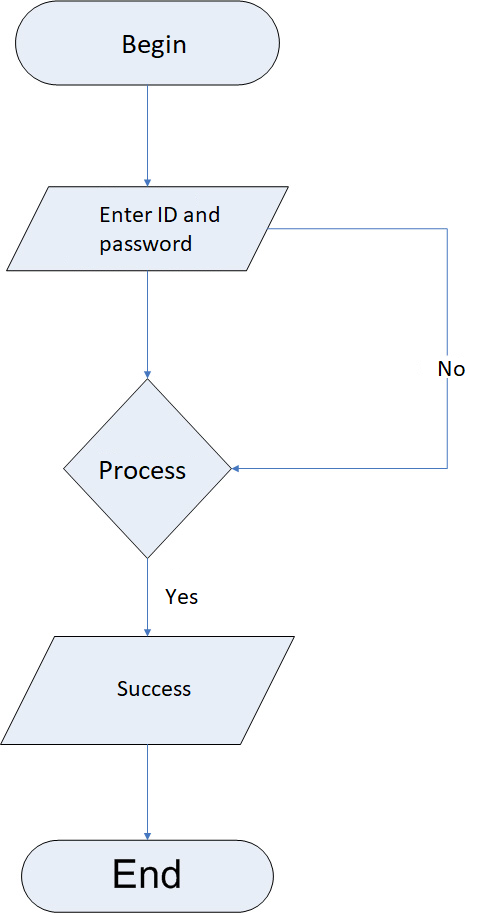arrow: (233, 224, 453, 474), (140, 270, 155, 379), (140, 86, 155, 186), (141, 747, 154, 840), (141, 556, 155, 636)
data: (1, 634, 296, 749), (4, 184, 294, 277)
decision: (61, 379, 233, 559)
terminator: (15, 1, 283, 89), (19, 836, 276, 913)
text: (98, 203, 221, 256), (110, 856, 186, 893), (114, 677, 193, 702), (96, 461, 190, 482), (115, 34, 189, 60), (164, 586, 201, 606), (437, 359, 469, 381)
